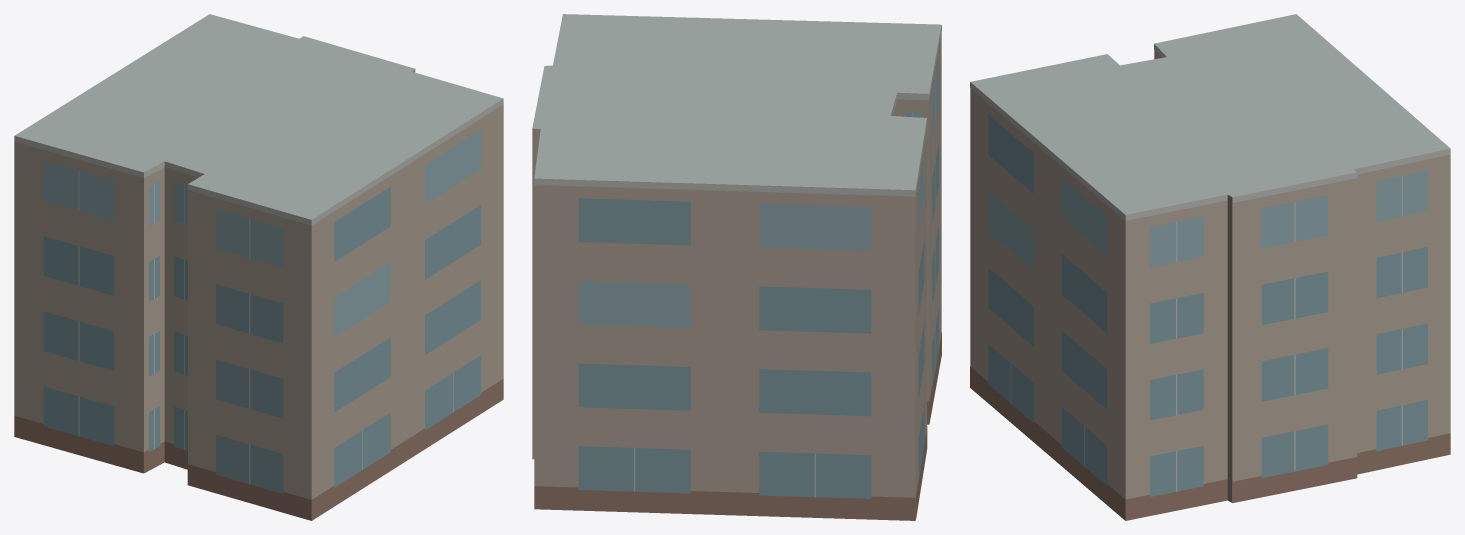
File: survey-upis-32731907.glb
3 views of the same model, side by side, from view 1: azimuth 30°, elevation 25°; view 2: azimuth 150°, elevation 25°; view 3: azimuth 270°, elevation 25° (orthographic). The views are drawn at different scales.
Parts seen in each view (by area): view 1: survey-upis-32731907.tmp; view 2: survey-upis-32731907.tmp; view 3: survey-upis-32731907.tmp.
Part boxes in pixels (box(x1,y1,x2,y2)): survey-upis-32731907.tmp: box(14, 14, 503, 520); survey-upis-32731907.tmp: box(532, 14, 941, 520); survey-upis-32731907.tmp: box(970, 14, 1450, 520).
Bounding box in the file's own units: 17.76 × 12.6 × 17.95.
